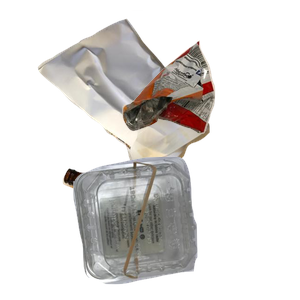glass: (60, 166, 241, 300)
paper: (35, 10, 237, 178)
plastic: (71, 154, 300, 300)
trash: (120, 38, 300, 164)
